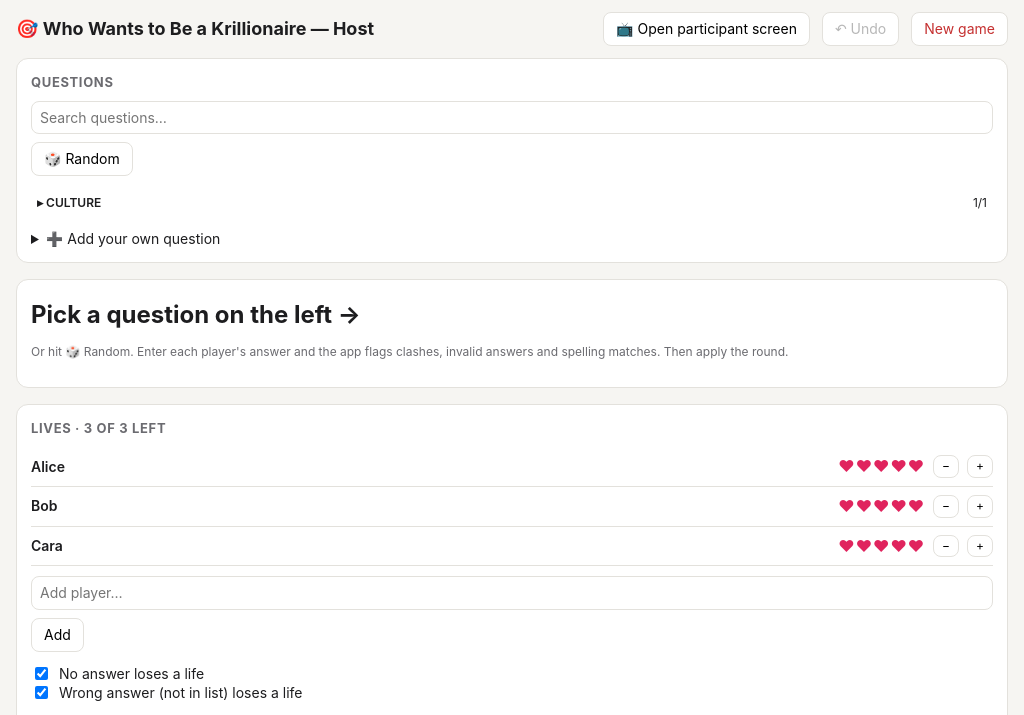
Test: HostScreen › suggests answers as you type and Enter picks the top one
Click the button "▸ Culture 1/1" at (74, 202), box [31,190,993,217]
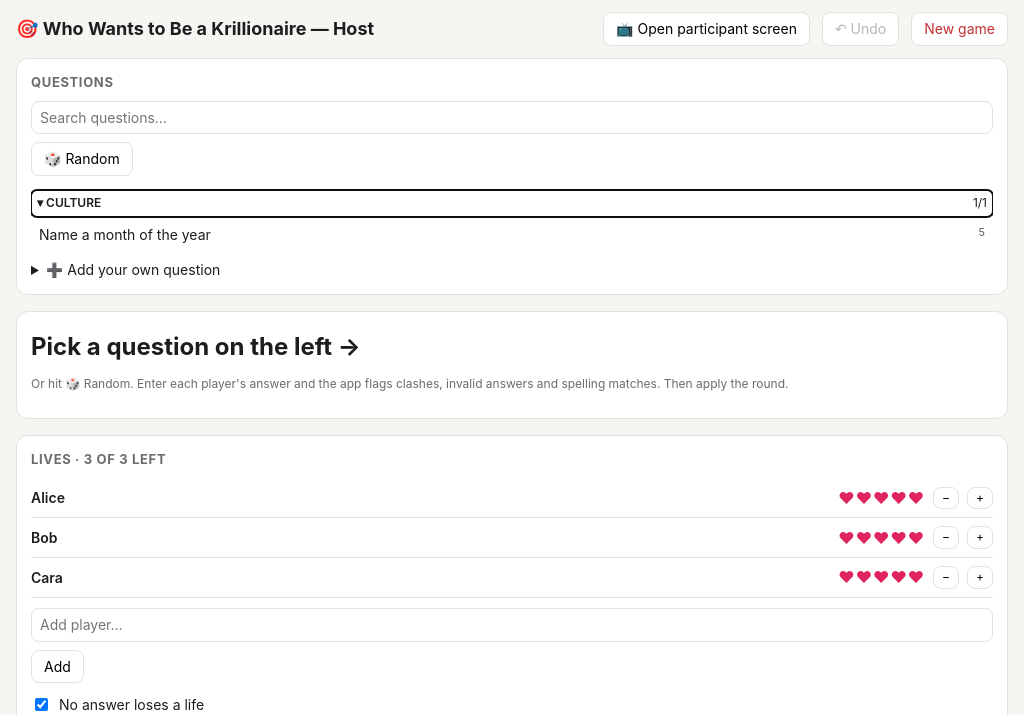
Click the button "Name a month of the year 5" at (125, 234), box [31,219,993,250]
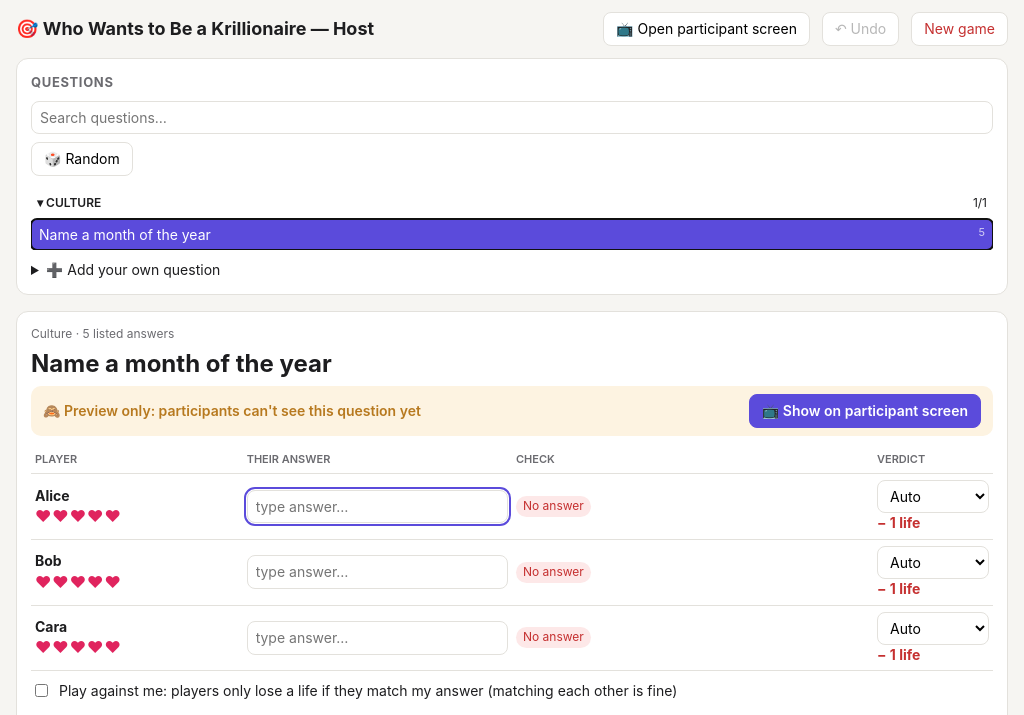
Type "jnuary" into the 1st field labelled "type answer…" at (377, 507), box [247,490,508,523]
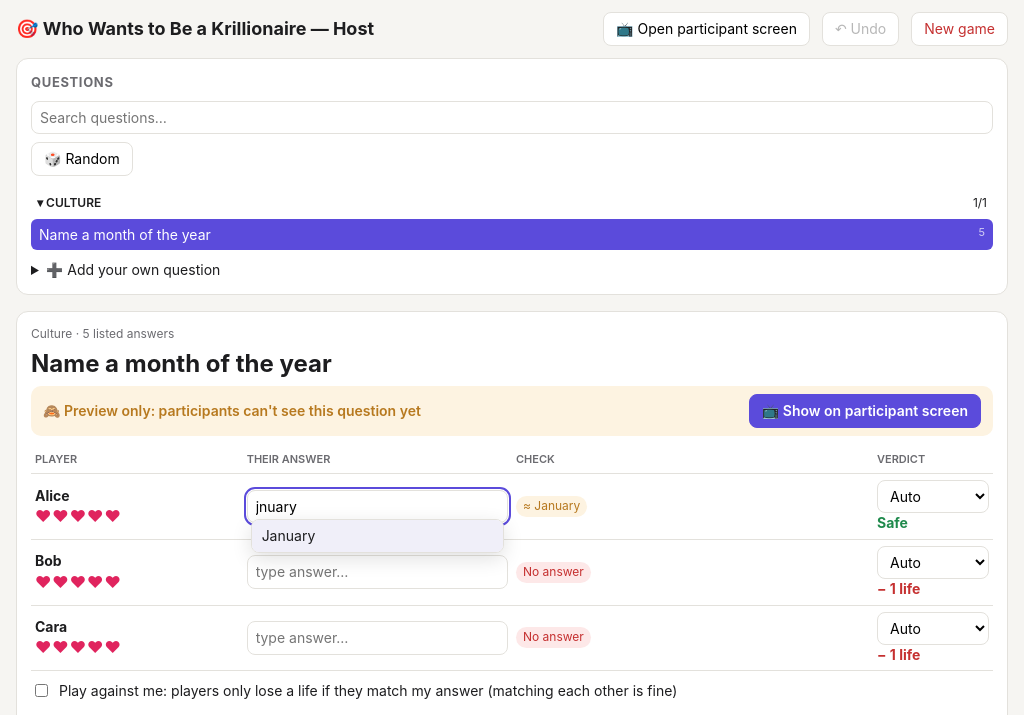
expect the option "January" is shown: met, box [252,520,503,552]
Press Enter
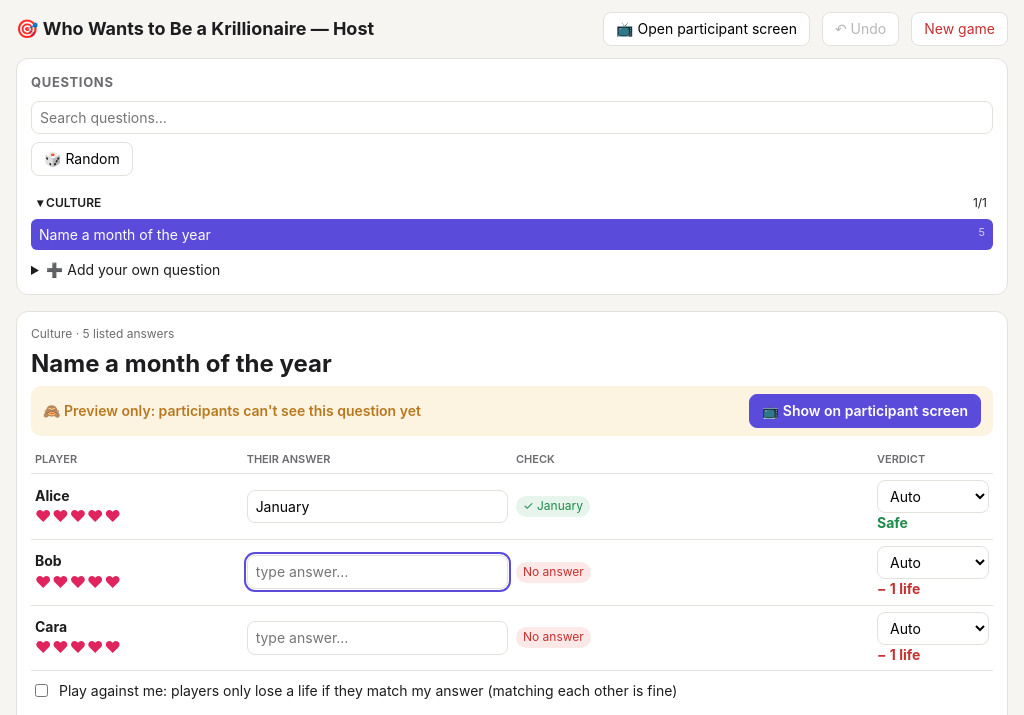
expect the field named "type answer…" holds "January": met, box [247,490,508,523]
